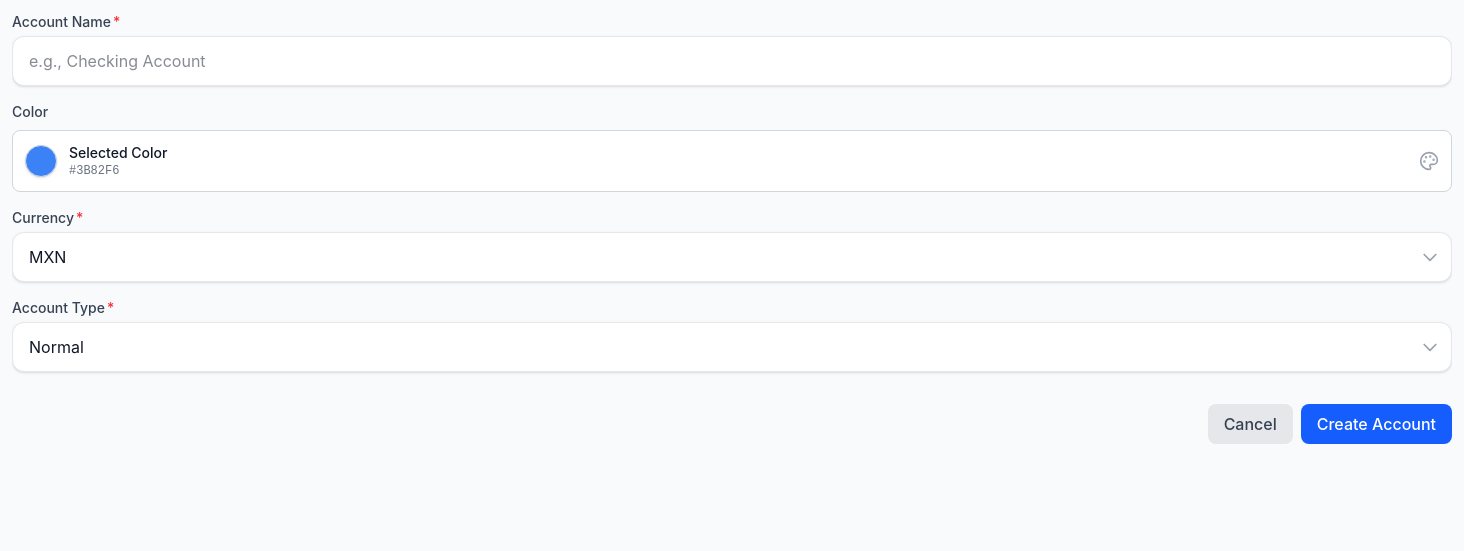
AccountForm › shows the Stock Ticker input when type is investment
The width and height of the screenshot is (1464, 551).
Expected: the field labelled "Stock Ticker" is not shown
Step 1. Select "Investment" in the dropdown labelled "Account Type*" → [732, 347], box left=12, top=322, right=1452, bottom=372
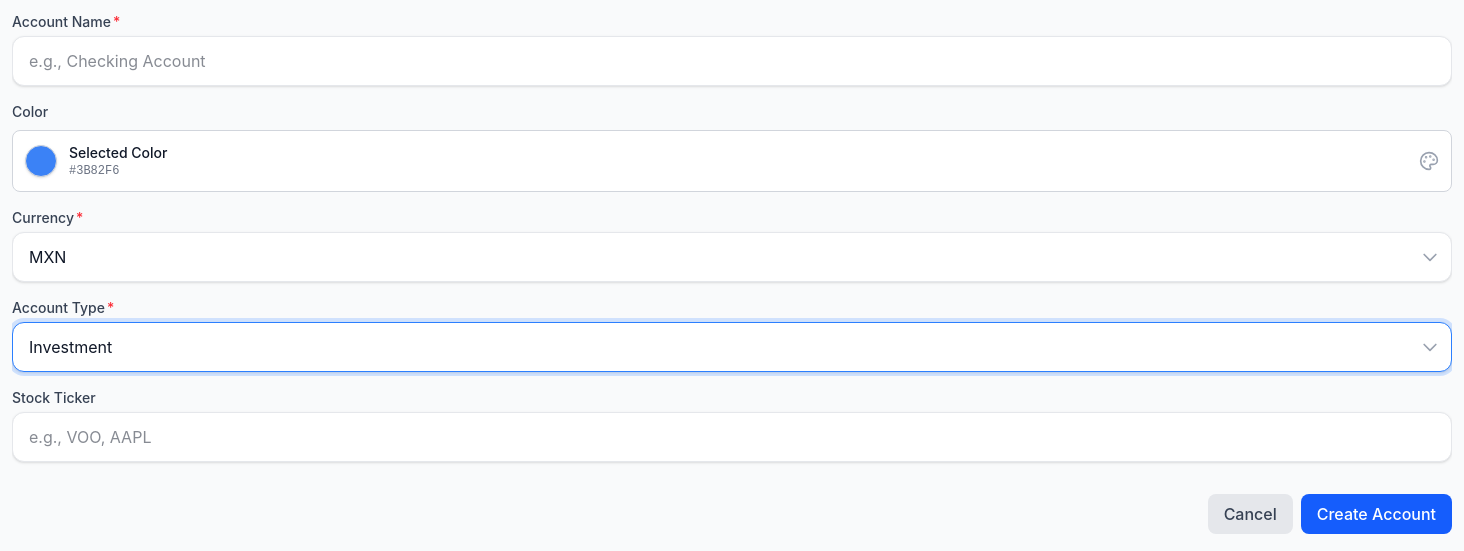
Expected: the field labelled "Stock Ticker" is shown, left=12, top=412, right=1452, bottom=462
